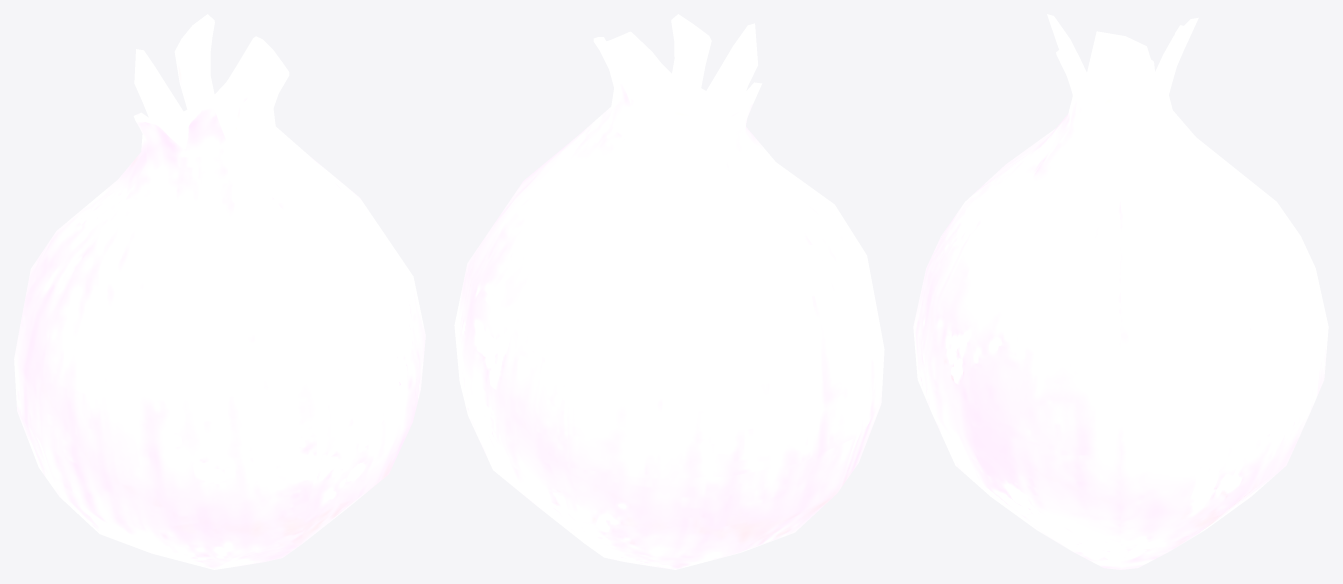
3 views of the same model, side by side, from view 1: azimuth 30°, elevation 25°; view 2: azimuth 150°, elevation 25°; view 3: azimuth 270°, elevation 25° (orthographic). The views are drawn at different scales.
Visible parts, largest first — view 1: SM_Onion_Fruit_01_LOD0; view 2: SM_Onion_Fruit_01_LOD0; view 3: SM_Onion_Fruit_01_LOD0.
Boxes of the visible parts, x1,y1,x2,y2 form: SM_Onion_Fruit_01_LOD0: [14, 14, 425, 569]; SM_Onion_Fruit_01_LOD0: [454, 14, 884, 569]; SM_Onion_Fruit_01_LOD0: [913, 14, 1328, 569].
Size of the model in its own units: 0.2245 by 0.3079 by 0.2186.
Materials: 1 (1 with a texture image).
